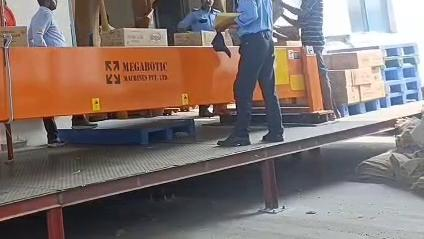box: (101, 28, 167, 46), (325, 49, 383, 69), (328, 68, 382, 85), (357, 81, 386, 101), (0, 26, 27, 47), (173, 32, 216, 45), (332, 86, 362, 104), (274, 26, 299, 40), (275, 40, 302, 46)
